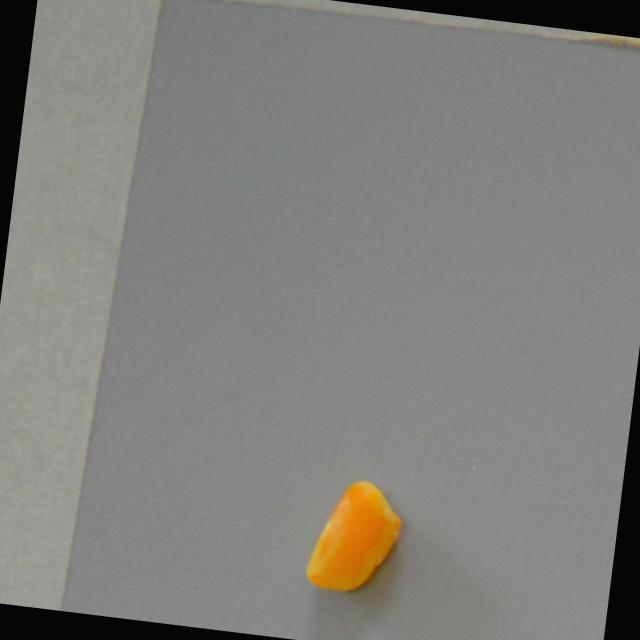pelicula: (278, 472, 414, 604)
